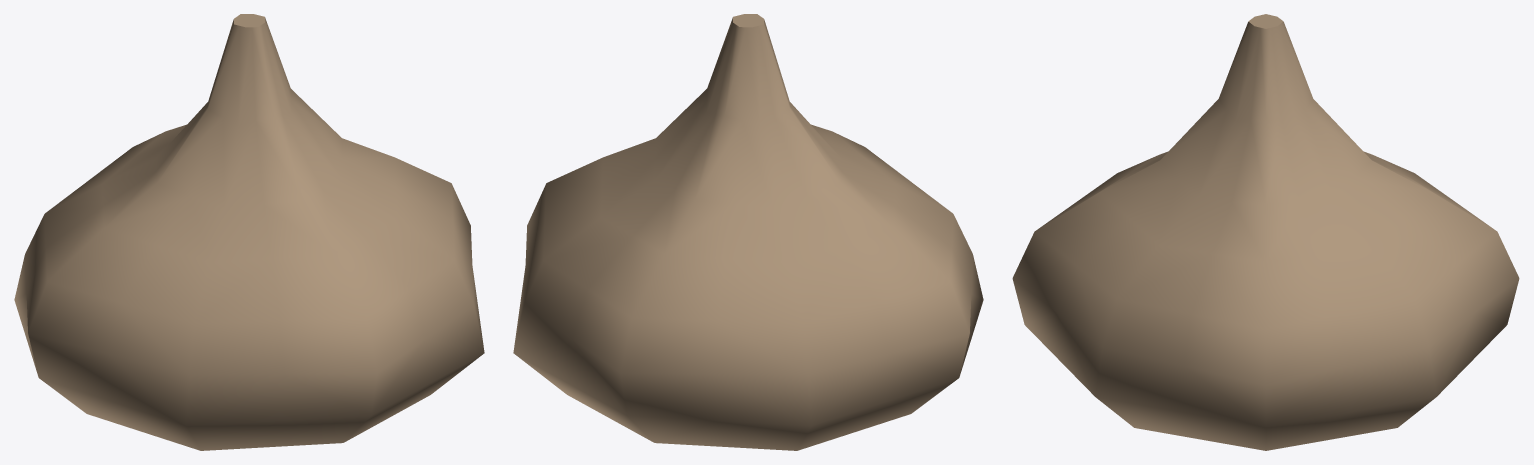
The model's file is PS_Garlic.fbx.
The picture shows the model from 3 angles, left to right: view 1: azimuth 30°, elevation 25°; view 2: azimuth 150°, elevation 25°; view 3: azimuth 270°, elevation 25°; orthographic projection.
Visible parts, largest first — view 1: PS_Garlic; view 2: PS_Garlic; view 3: PS_Garlic.
Boxes of the visible parts, left/top/right/bottom form: PS_Garlic: left=14, top=14, right=484, bottom=450; PS_Garlic: left=513, top=14, right=983, bottom=450; PS_Garlic: left=1012, top=14, right=1519, bottom=450.
Size of the model in its own units: 0.11 by 0.0906 by 0.11.
